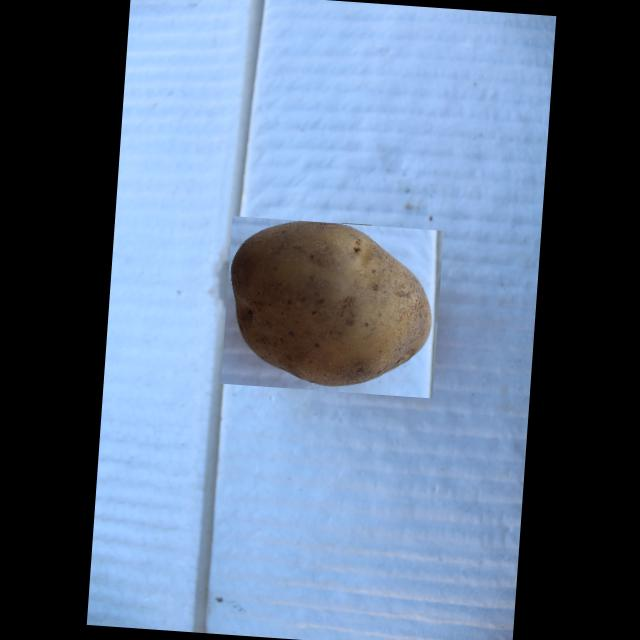Diseased-fungal potato: (220, 215, 442, 398)
